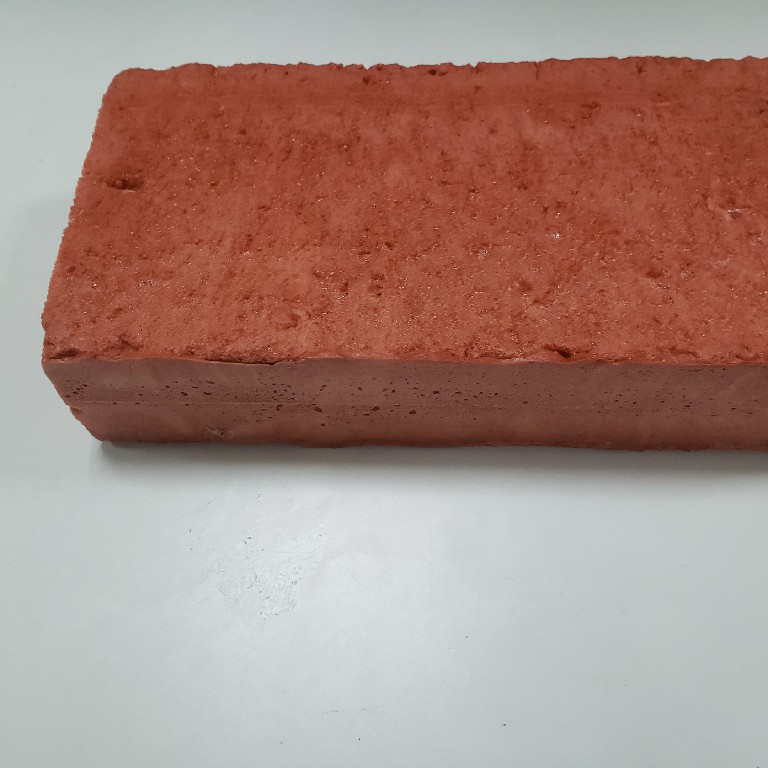brick: (37, 53, 768, 456)
